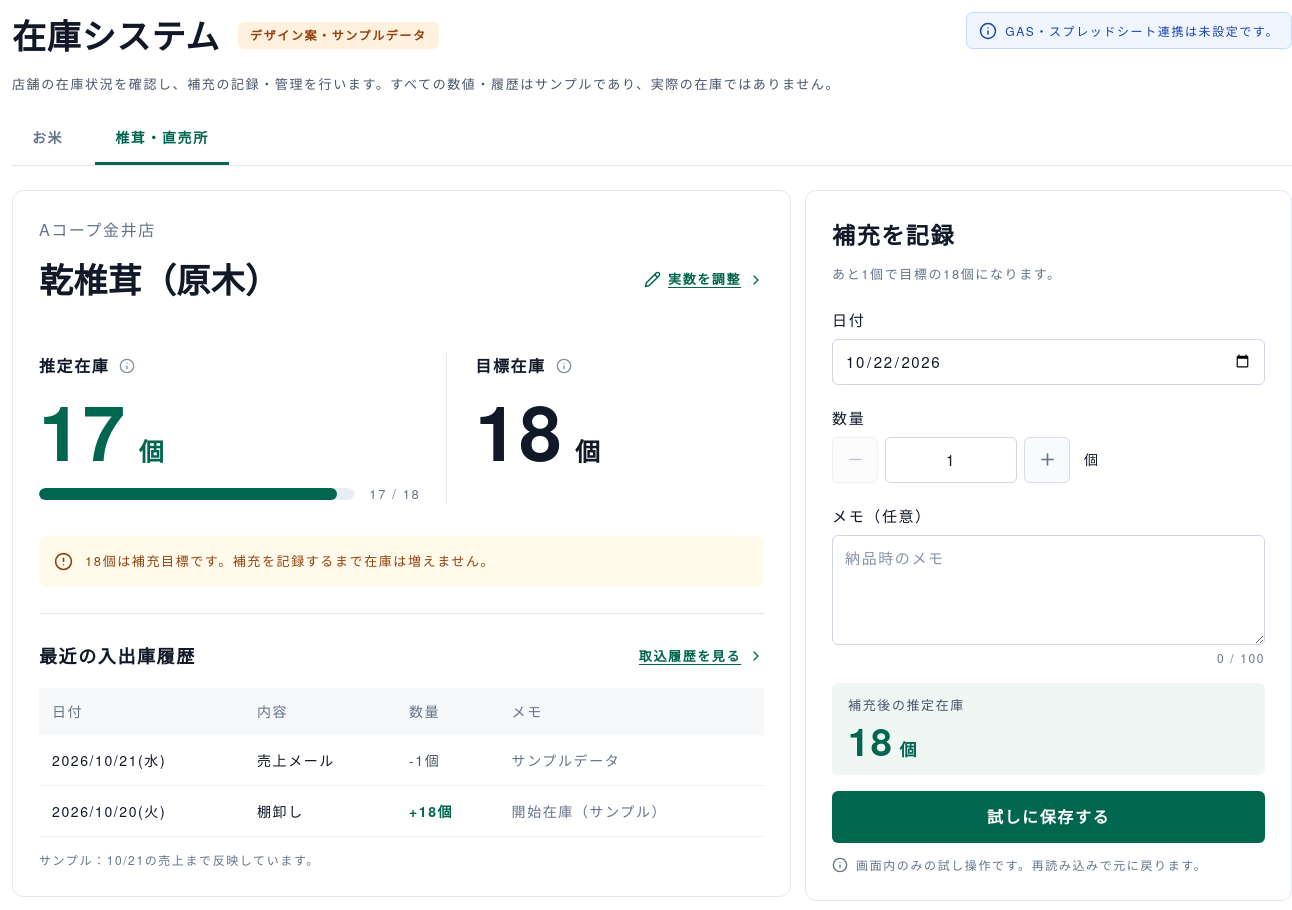
Test: rejects invalid restock quantity
Clear the number field labelled "数量" at (951, 460), box [885,437,1017,483]
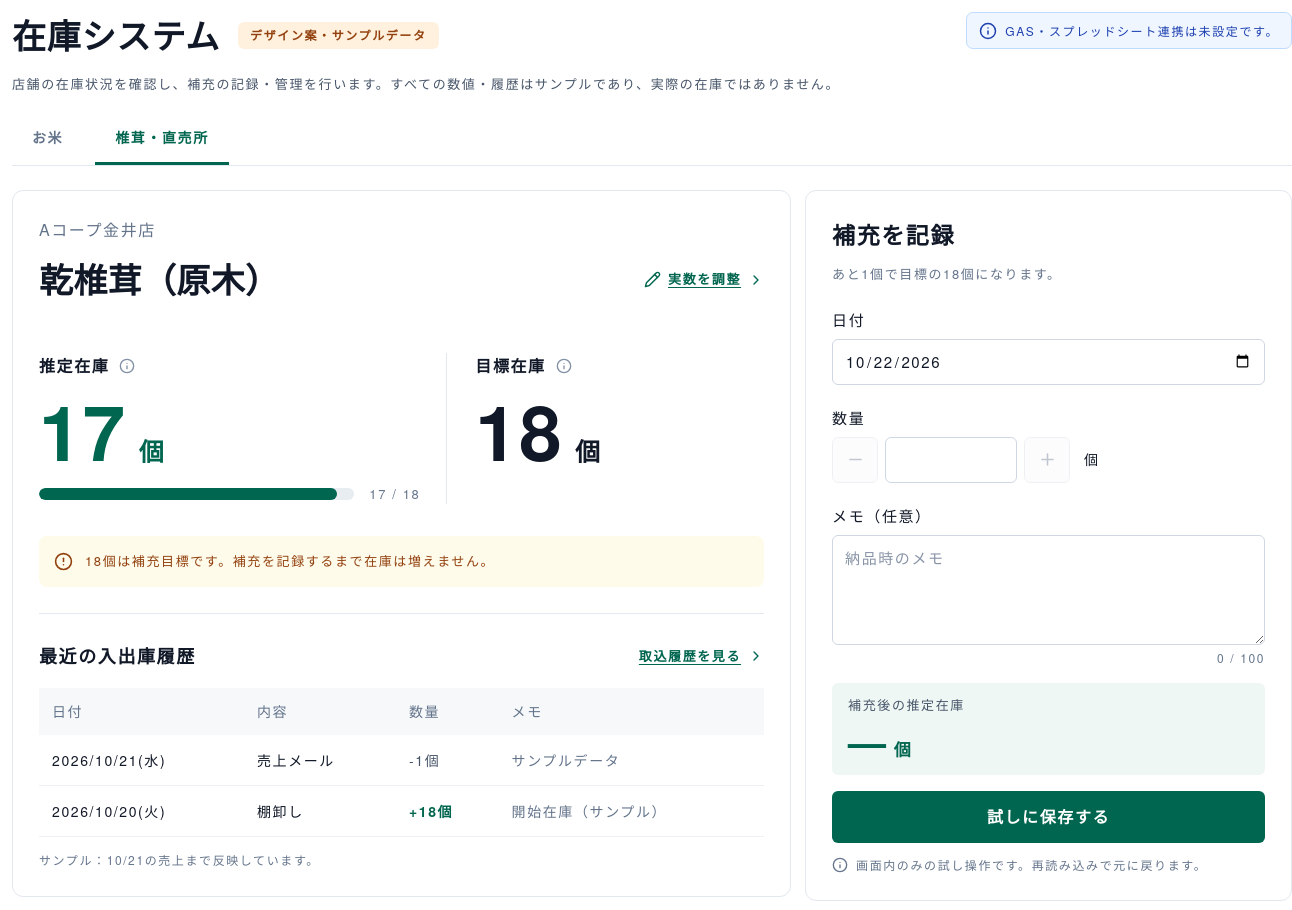
Click the button "試しに保存する".
click(1049, 817)  # box [832,791,1265,843]
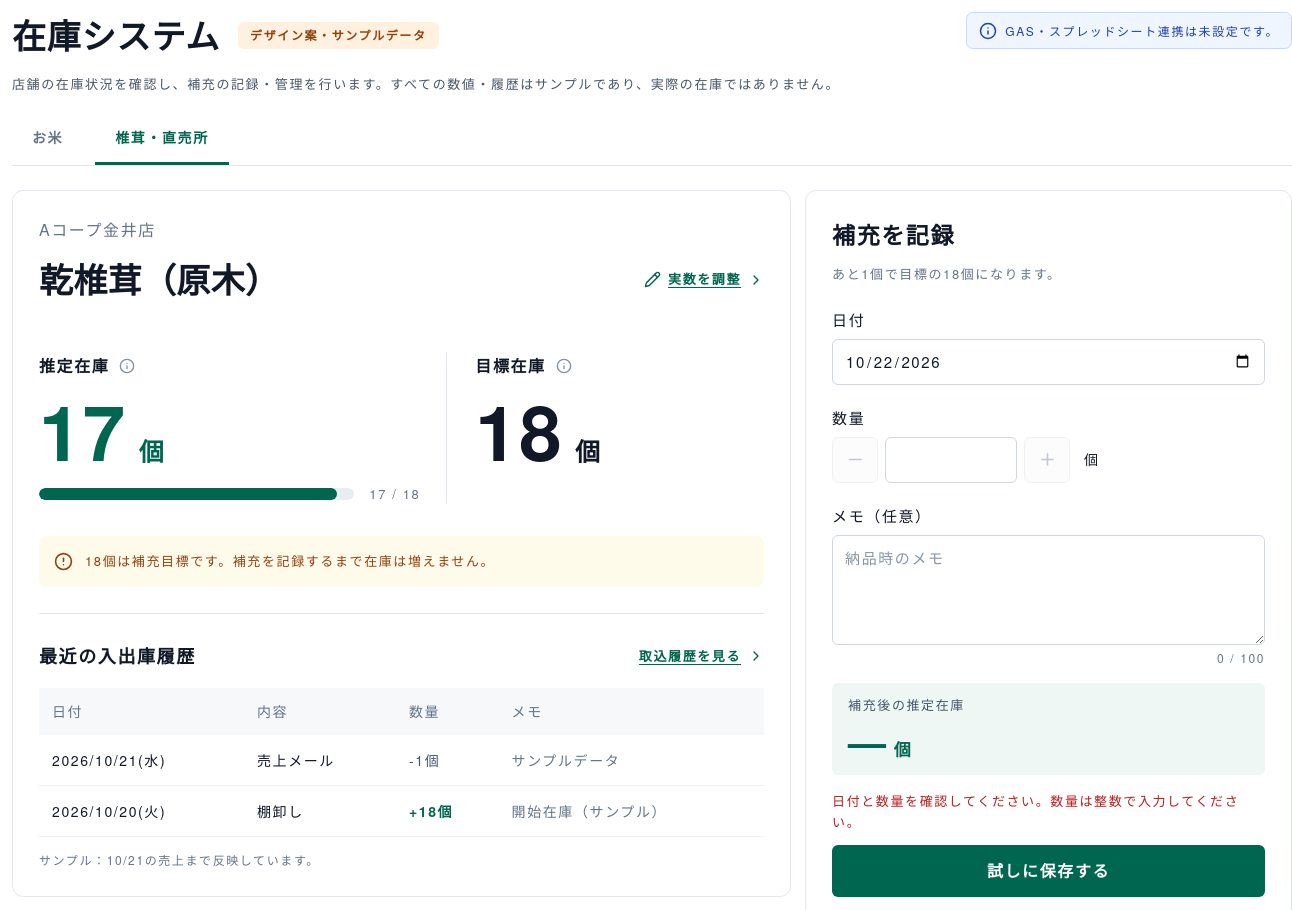
Now the message "日付と数量を確認してください。数量は整数で入力してください。" is shown, box [832,791,1265,833]
